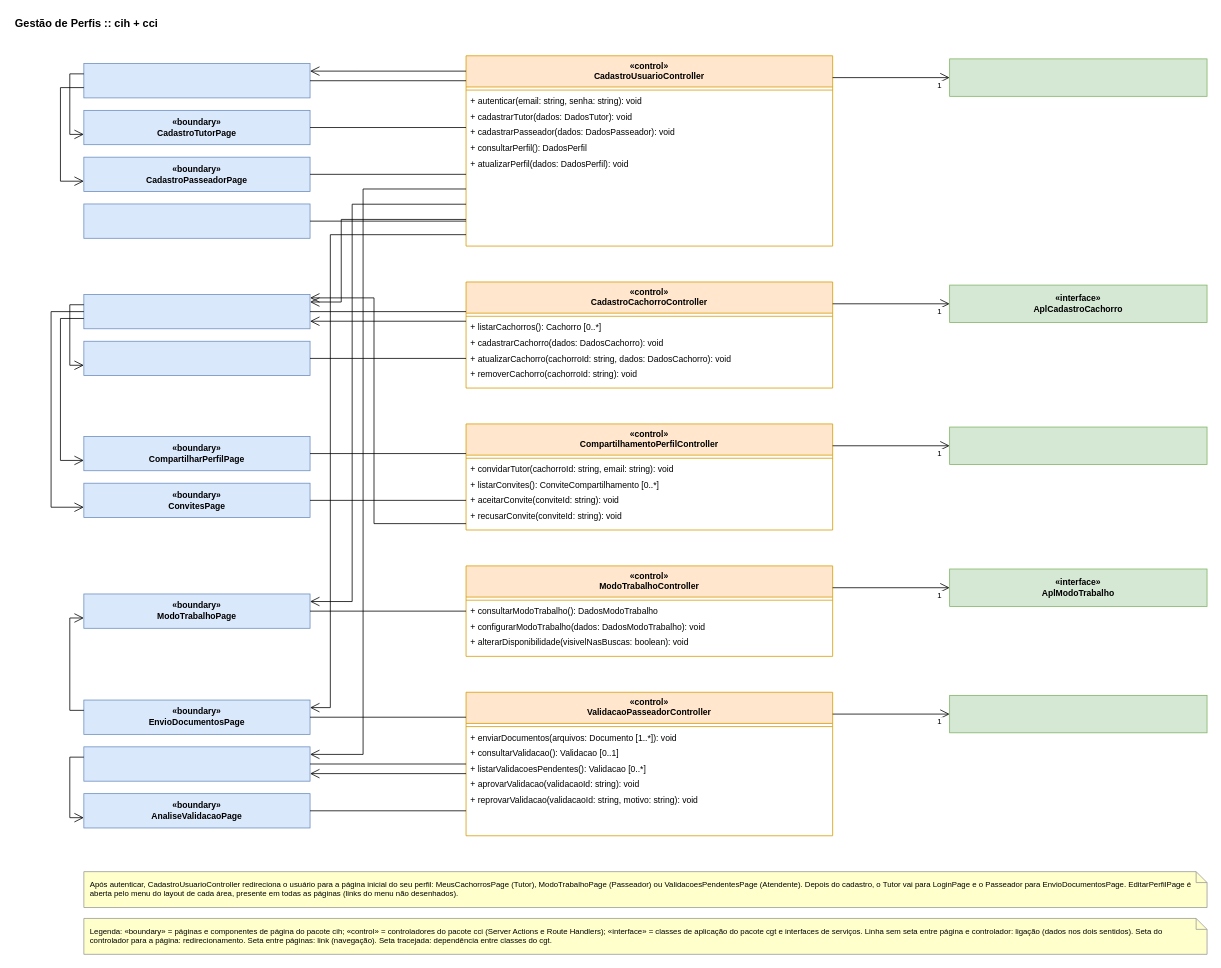
The diagram is 1221 pixels wide and 968 high, and some of its shapes have lost their labels. The shapes that lost their labels are listed below. From the top down, each one's centre as x and y in pixels, then its label:
(196,80): «boundary» LoginPage
(1078,77): «interface» AplCadastroUsuario
(196,220): «boundary» EditarPerfilPage
(196,311): «boundary» MeusCachorrosPage
(196,358): «boundary» CadastroCachorroPage
(1078,445): «interface» AplCompartilhamentoPerfil
(1078,714): «interface» AplValidacaoPasseador
(196,763): «boundary» ValidacoesPendentesPage
